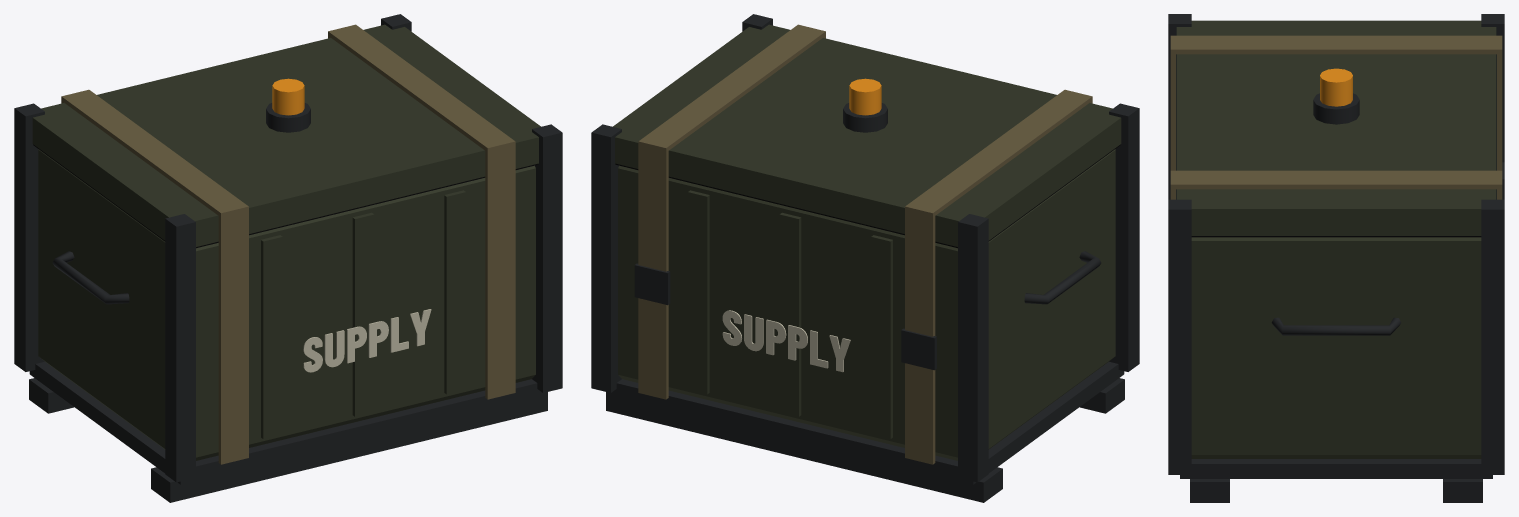
File: care_package.gltf
3 renders of one model, left to right at view 1: azimuth 30°, elevation 25°; view 2: azimuth 150°, elevation 25°; view 3: azimuth 270°, elevation 25°, orthographic. The views are drawn at different scales.
Parts seen in each view (by area): view 1: care_package; view 2: care_package; view 3: care_package.
Boxes of the visible parts, x1,y1,x2,y2 form: care_package: (14, 14, 562, 502); care_package: (591, 14, 1139, 502); care_package: (1168, 14, 1504, 502).
Bounding box in the file's own units: 1.51 × 1.1 × 1.01.
